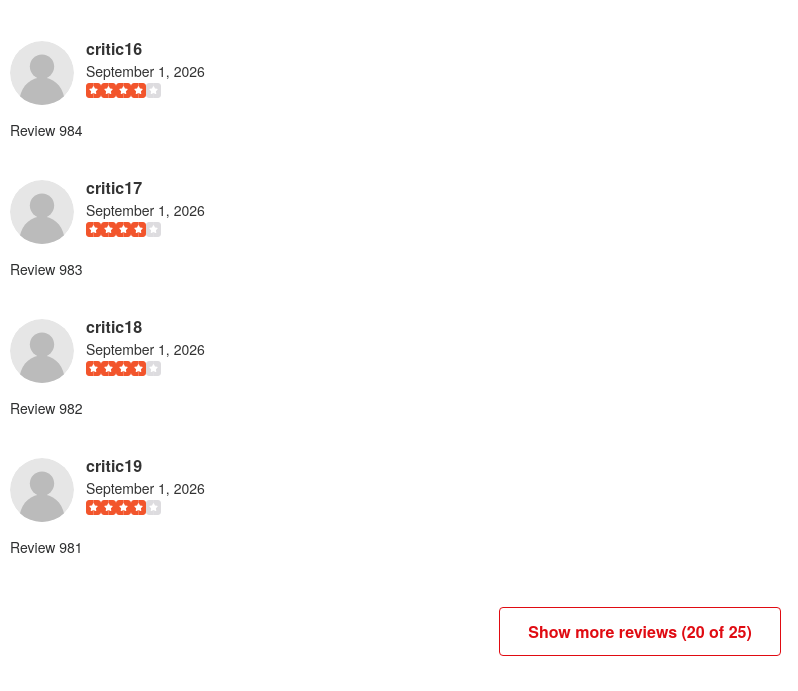
a review posted meanwhile shows no review twice, and the button still ends
(page scrolled)
What coordinates should you click on to do the following:
click the button "Show more reviews (20 of 25)"
I would click on:
 (640, 631)
Its box is [499, 607, 781, 656].
(page scrolled)
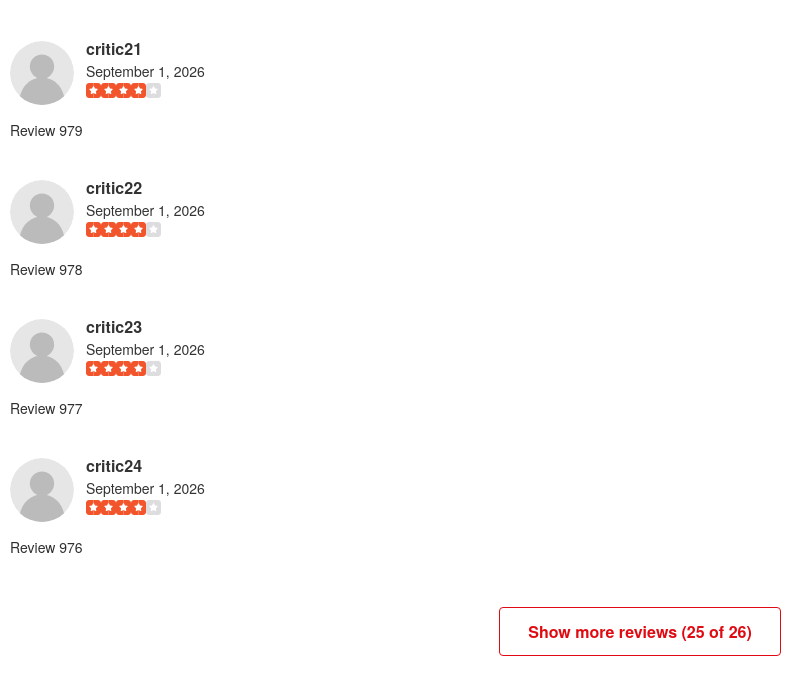
What coordinates should you click on to do the following:
click the button "Show more reviews (25 of 26)"
I would click on:
 (640, 631)
Its box is [499, 607, 781, 656].
(page scrolled)
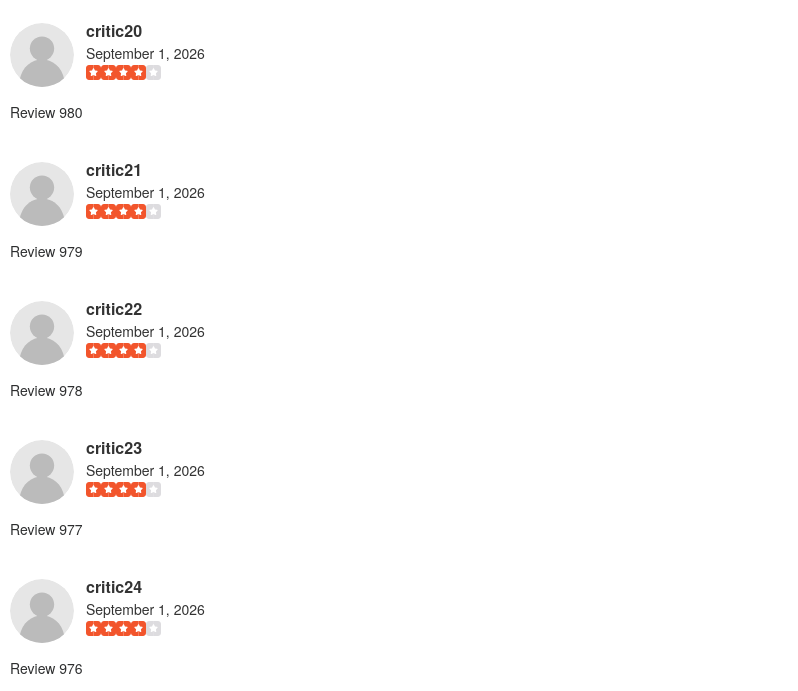
Expected: the button "Show more reviews (25 of 26)" is gone
